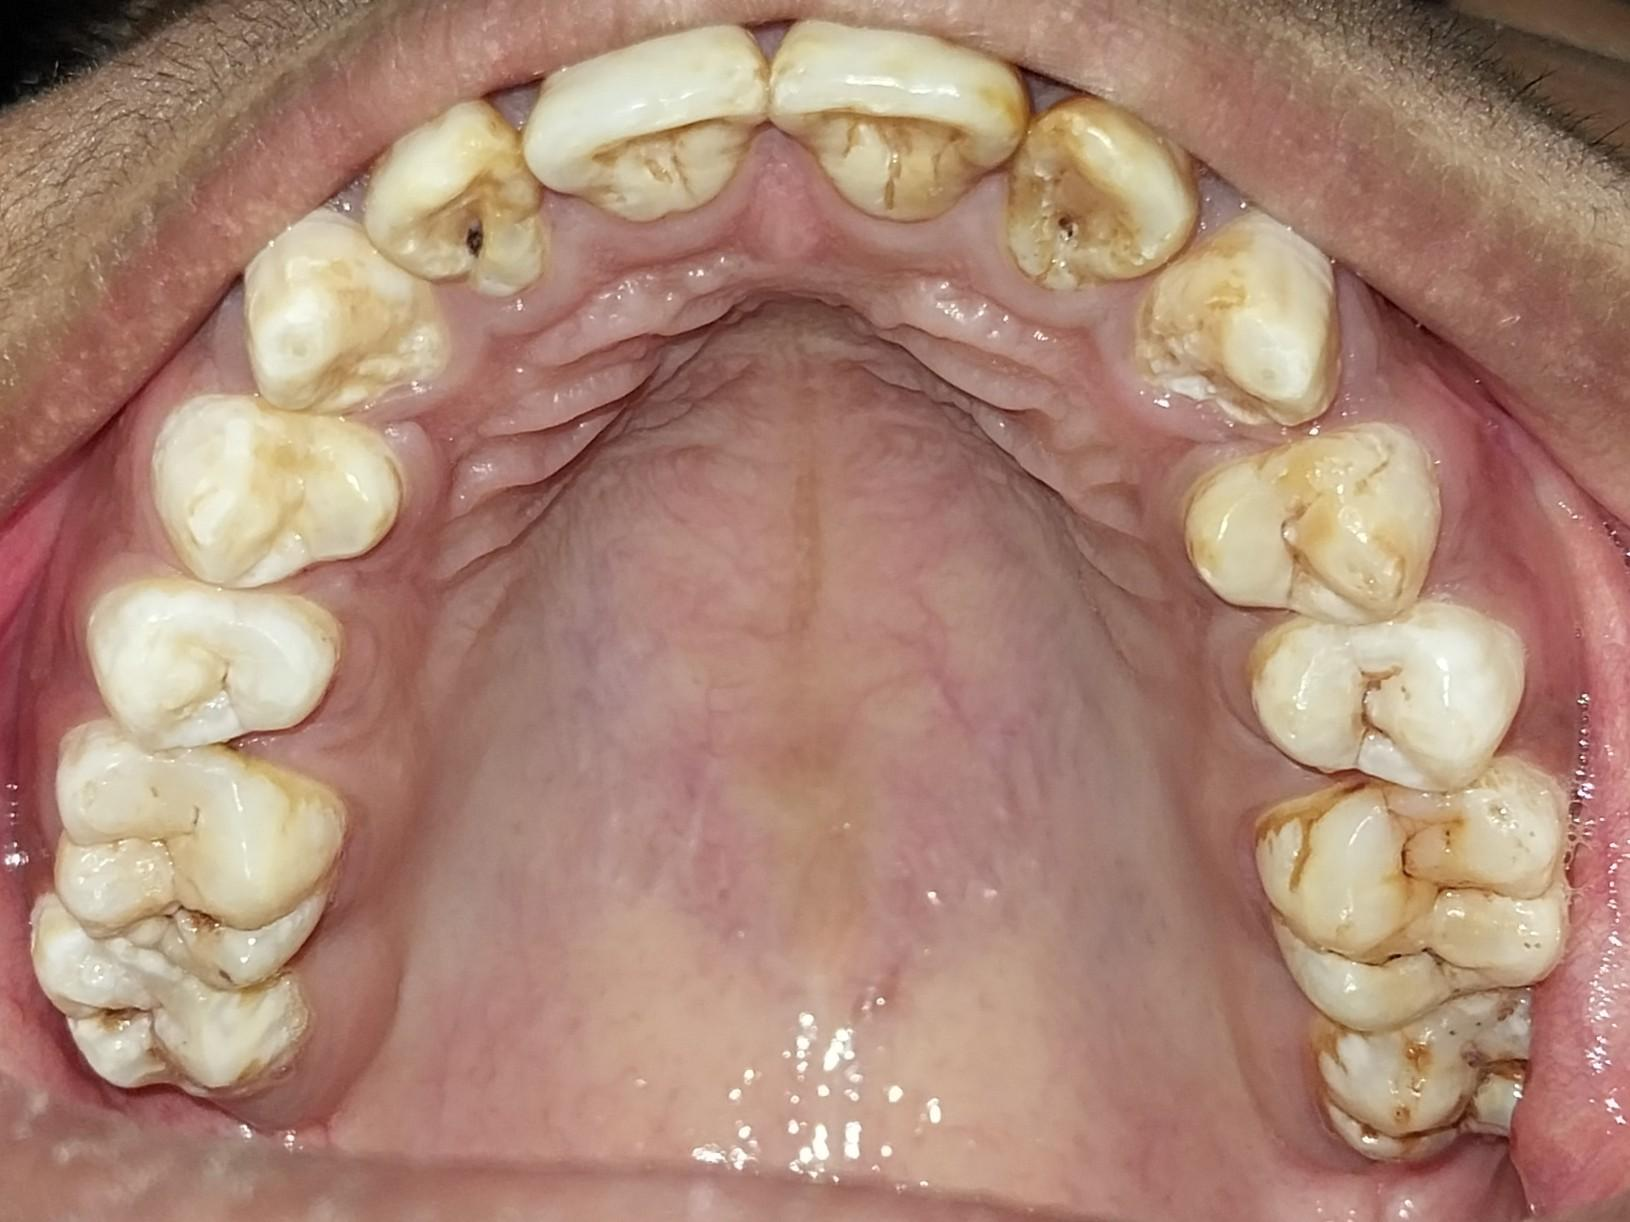D: (1256, 786, 1574, 1027), (51, 731, 331, 990), (28, 920, 299, 1095), (1013, 97, 1198, 288), (360, 105, 535, 291)
